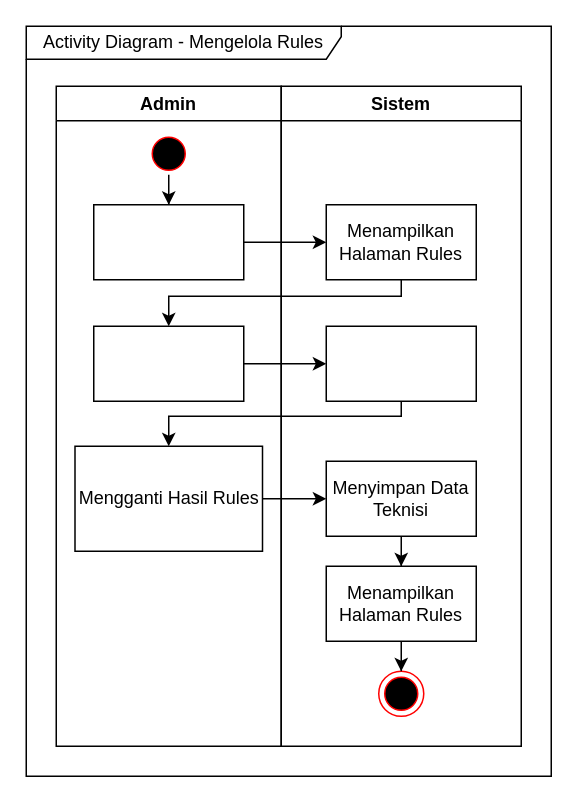
Some shapes in this 578 by 803 pixel diagram are drawn without their labels. The centre of each missing label's shape, as x and y in pixels:
"Membuka Menu Rules" belongs at pixel 168 241.
"Memilih Ubah Rules" belongs at pixel 168 363.
"Menampilkan Form Ubah Rules" belongs at pixel 400 363.
